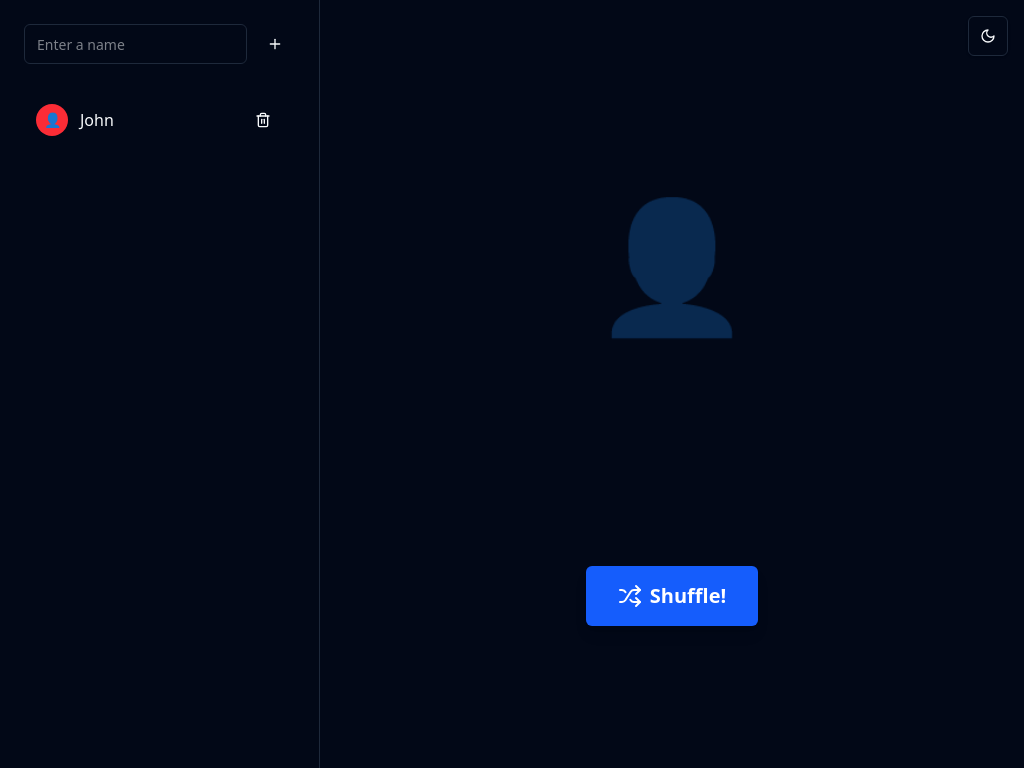
App Component › displays a selected name after shuffling completes
What coordinates should you click on to do the following:
click the button "Shuffle!"
I would click on:
 (672, 596)
Its box is top-left (586, 566), bottom-right (758, 626).
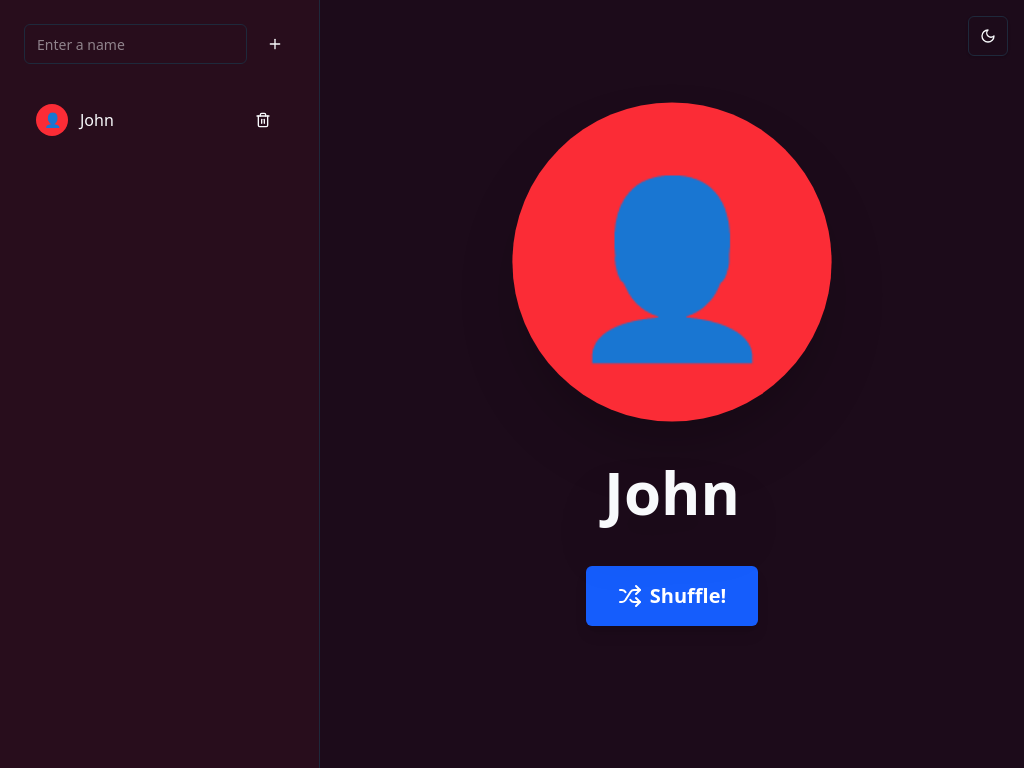
Expected: the 2nd text "John" is shown, top-left (604, 462), bottom-right (740, 522)
